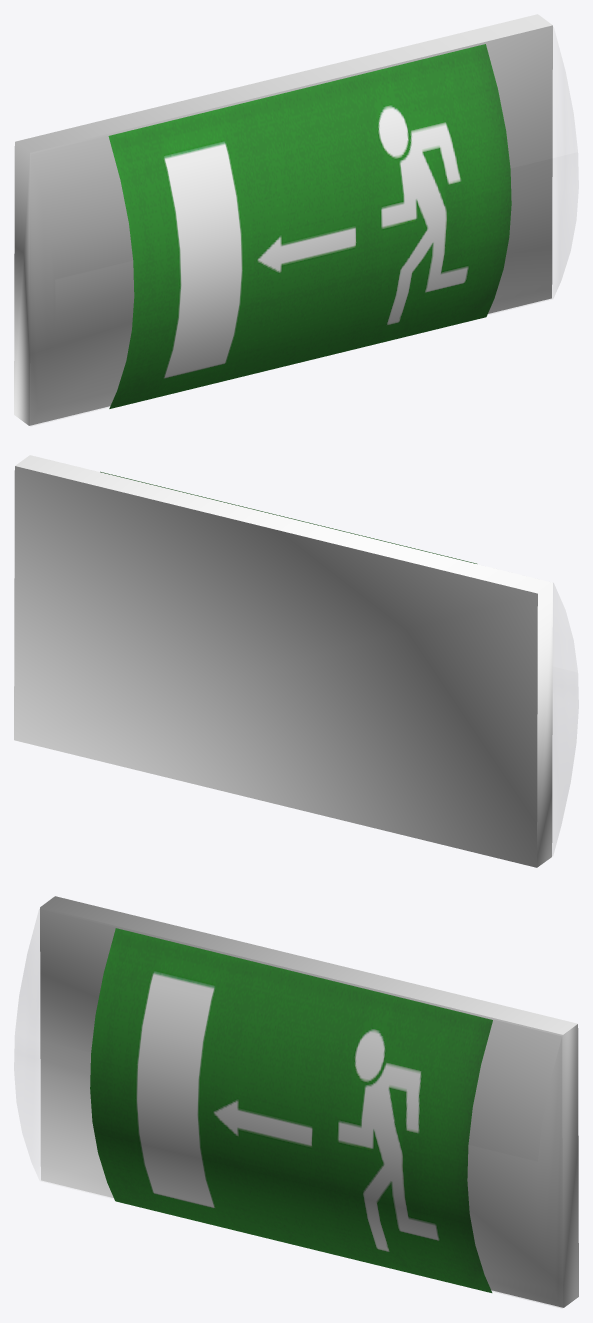
Rendered from ExitPanel.FBX.
3 views of the same model, one above another, from view 1: azimuth 30°, elevation 25°; view 2: azimuth 150°, elevation 25°; view 3: azimuth 330°, elevation 25° (orthographic).
Visible parts, largest first — view 1: Polygon, Polyg1, Polyg; view 2: Polyg1, Polyg; view 3: Polygon, Polyg1, Polyg.
Part boxes in pixels (box(x1,y1,x2,y2)): Polygon: box(108, 44, 511, 408); Polyg1: box(14, 14, 552, 425); Polyg: box(30, 27, 578, 425); Polyg1: box(14, 455, 552, 867); Polyg: box(552, 583, 578, 855); Polygon: box(90, 928, 492, 1292); Polyg1: box(40, 896, 578, 1307); Polyg: box(14, 909, 562, 1307).
Bounding box in the file's own units: 30 × 4.28 × 15.01.
3 materials, 1 textured.
